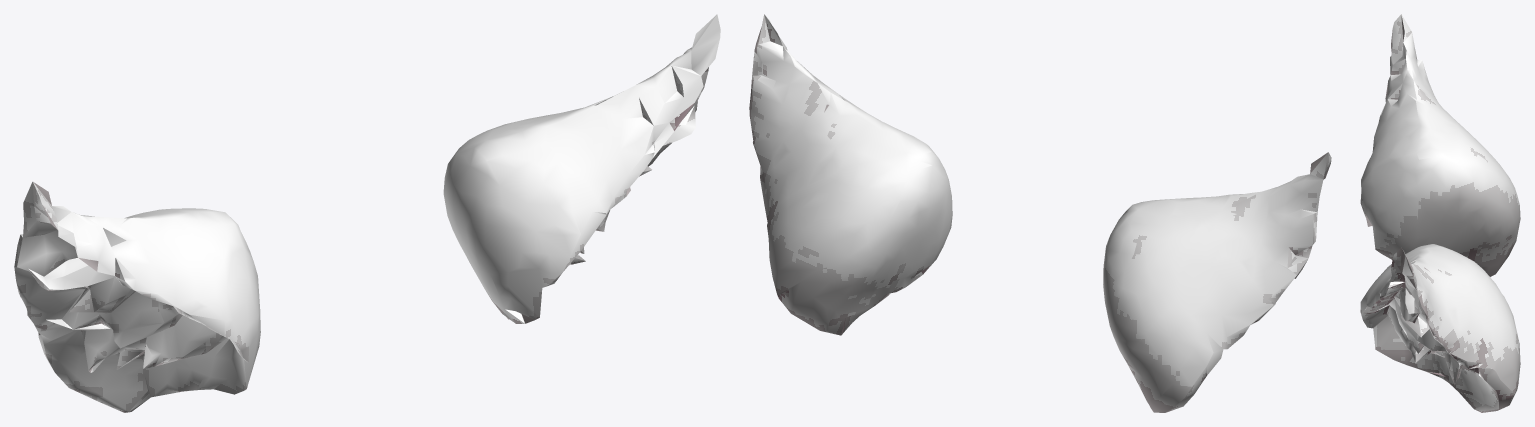
The model's file is wear_catears2.glb.
3 renders of one model, left to right at view 1: azimuth 30°, elevation 25°; view 2: azimuth 150°, elevation 25°; view 3: azimuth 270°, elevation 25°, orthographic. The views are drawn at different scales.
Visible parts, largest first — view 1: mesh; view 2: mesh; view 3: mesh.
Boxes of the visible parts, <box> form: mesh: <box>14,14,720,412</box>; mesh: <box>749,14,1331,412</box>; mesh: <box>1360,14,1520,412</box>.
Size of the model in its own units: 0.2321 by 0.1 by 0.0668.
1 material, 1 textured.
